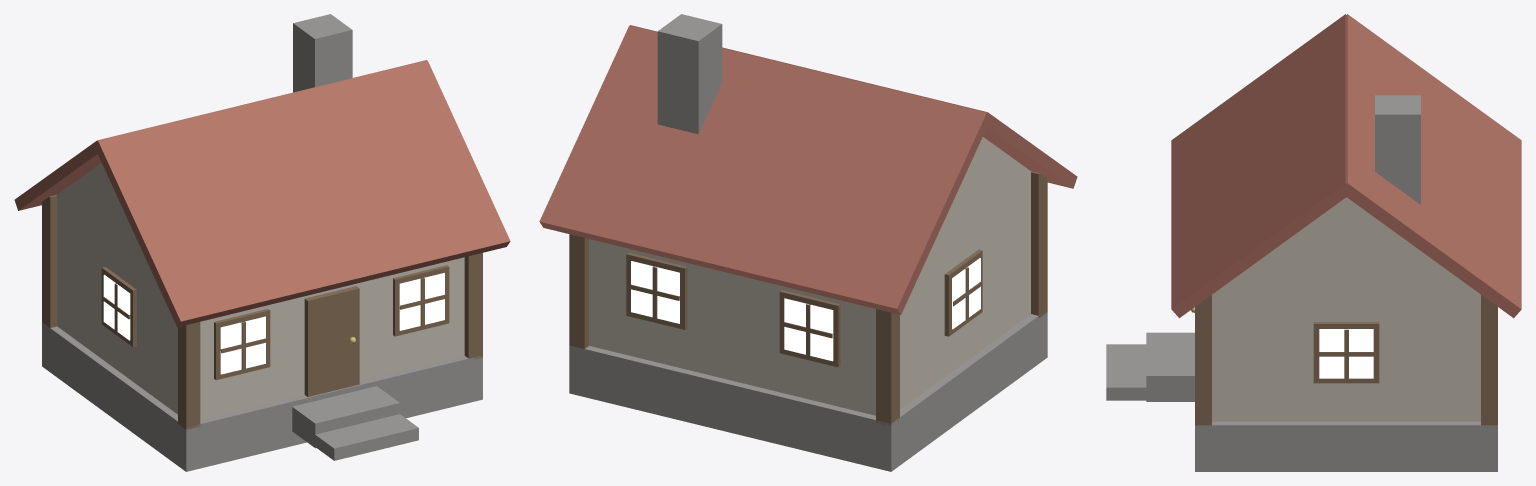
File: house.glb
3 renders of one model, left to right at view 1: azimuth 30°, elevation 25°; view 2: azimuth 150°, elevation 25°; view 3: azimuth 270°, elevation 25°, orthographic. The views are drawn at different scales.
Parts seen in each view (by area): view 1: house; view 2: house; view 3: house.
Part boxes in pixels (left/top/right/bottom): house: left=14, top=14, right=510, bottom=471; house: left=539, top=14, right=1077, bottom=471; house: left=1106, top=14, right=1521, bottom=471.
Size of the model in its own units: 7 by 6.45 by 7.26.
